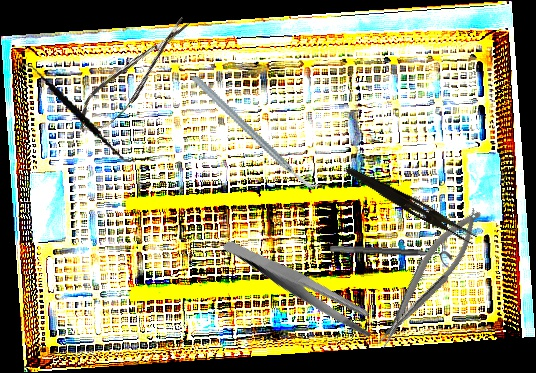Chopper: (191, 48, 321, 217)
Dressing Forceps: (222, 207, 381, 365), (342, 164, 480, 246)
Fixation Ring: (329, 244, 454, 269)
Micro Scissor: (66, 9, 203, 143)
Needle Holder: (363, 201, 493, 354)
Spatula Surgical: (6, 60, 151, 164)
